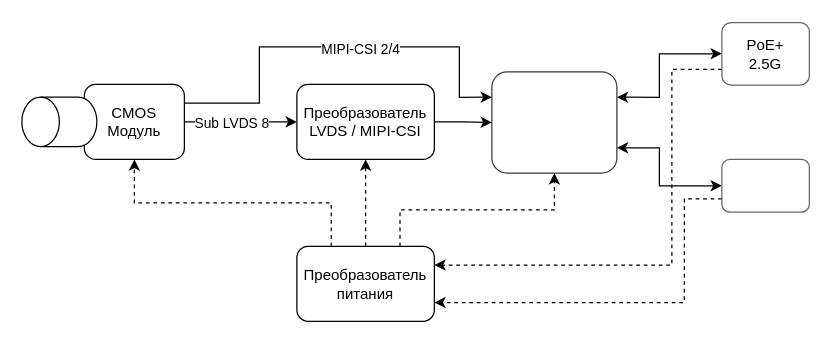
Some shapes in this 831 by 343 pixel diagram are drawn without their labels. Here are the shapes that lost their labels. From the top down, the centre of each, then its label:
At (x=554, y=122): "Модуль обработки изображения".
At (x=765, y=185): "TYPE-C PD".
